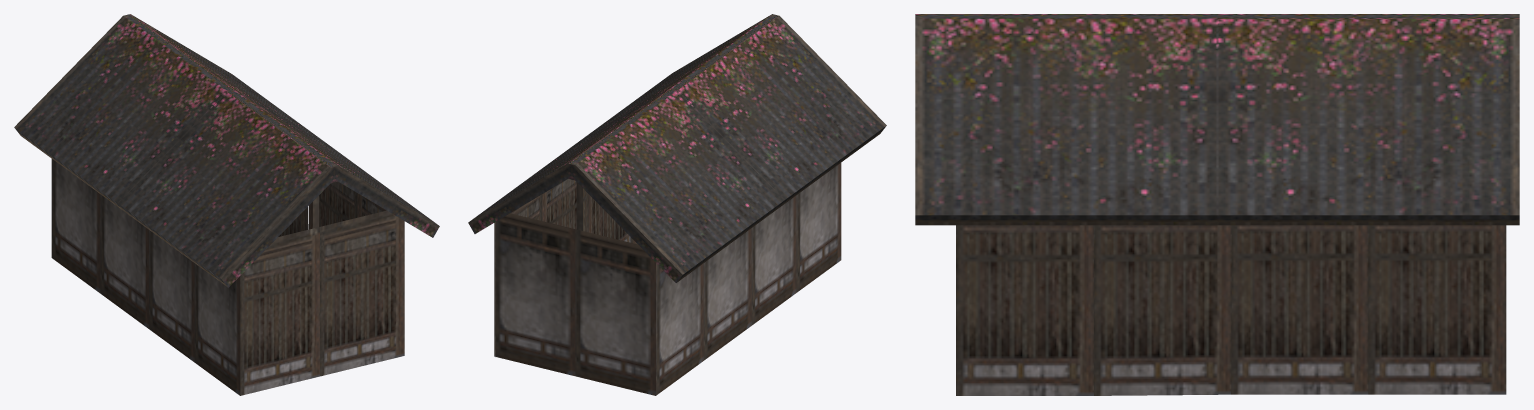
The model's file is b_zx_fangzi03_02_lod2.FBX.
The picture shows the model from 3 angles, left to right: view 1: azimuth 30°, elevation 25°; view 2: azimuth 150°, elevation 25°; view 3: azimuth 270°, elevation 25°; orthographic projection. The views are drawn at different scales.
Visible parts, largest first — view 1: b_zx_fangzi03_02_lod2; view 2: b_zx_fangzi03_02_lod2; view 3: b_zx_fangzi03_02_lod2.
Boxes of the visible parts, x1,y1,x2,y2 form: b_zx_fangzi03_02_lod2: (14,14,439,395); b_zx_fangzi03_02_lod2: (468,14,886,395); b_zx_fangzi03_02_lod2: (915,14,1519,395).
Bounding box in the file's own units: 6.88 × 6.62 × 11.34.
